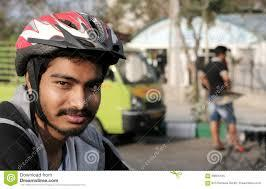helmet: (13, 4, 127, 138)
no_helmet: (50, 59, 101, 130)
